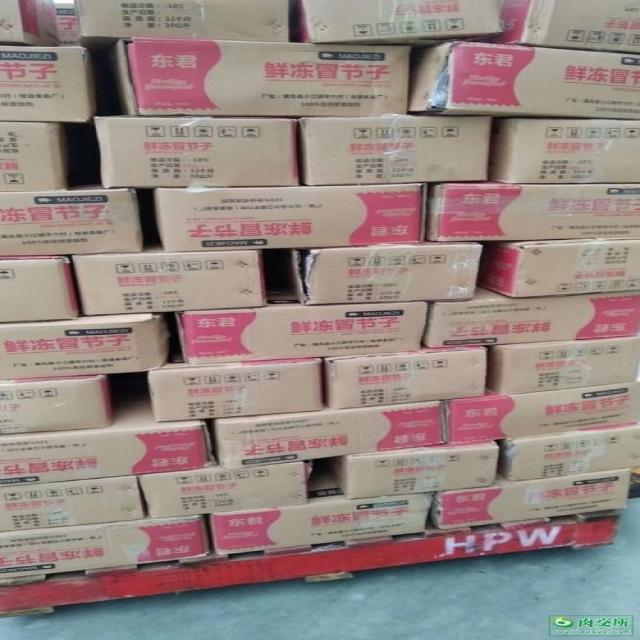box: (118, 39, 411, 116), (410, 40, 639, 120), (0, 400, 212, 486), (209, 472, 434, 553), (154, 184, 423, 251), (207, 402, 449, 469), (174, 303, 427, 364), (94, 118, 303, 188), (0, 514, 212, 578), (301, 116, 491, 185), (426, 285, 639, 346), (70, 250, 268, 315), (290, 240, 483, 304), (424, 183, 639, 240), (433, 468, 630, 530), (447, 382, 639, 445), (0, 311, 174, 379), (144, 357, 325, 421), (320, 346, 485, 411), (138, 460, 309, 520), (0, 187, 142, 258), (328, 441, 501, 499), (490, 117, 639, 183), (480, 238, 639, 299), (484, 337, 638, 396), (76, 0, 289, 42), (475, 1, 639, 53), (296, 1, 503, 42), (0, 476, 147, 532), (498, 423, 639, 481), (0, 46, 97, 121), (0, 375, 113, 433), (0, 256, 79, 323), (0, 121, 70, 191)
